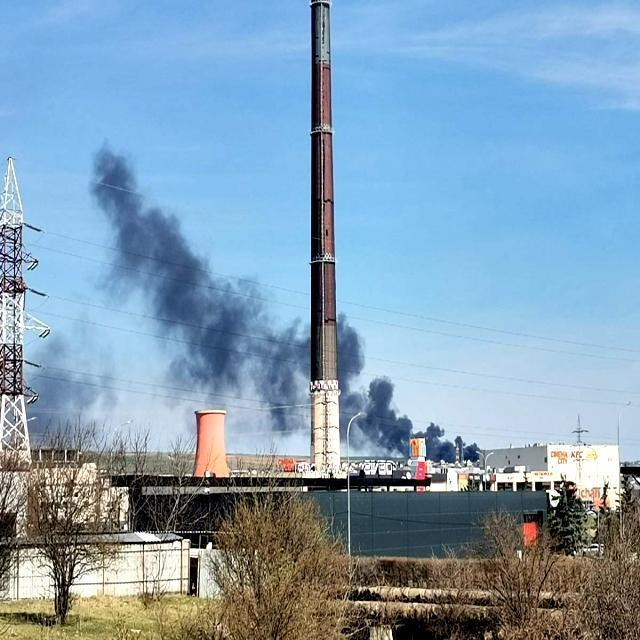Smoke: (82, 167, 420, 466)
